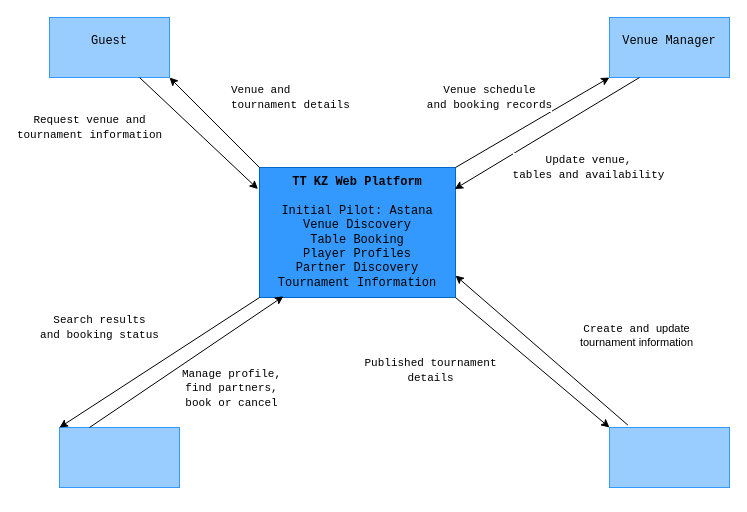
Image size: 747x512. Some labels were removed from this diagram. The shapes that lost their labels are listed below. From the top down, each one's centre as x and y in pixels, then its label:
At pixel 119 457: "Registered Player".
At pixel 669 457: "Tournament Organizer".
